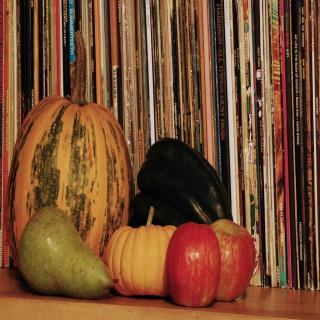Apple: (165, 223, 222, 307), (209, 216, 255, 302)
Pear: (18, 203, 113, 298)
